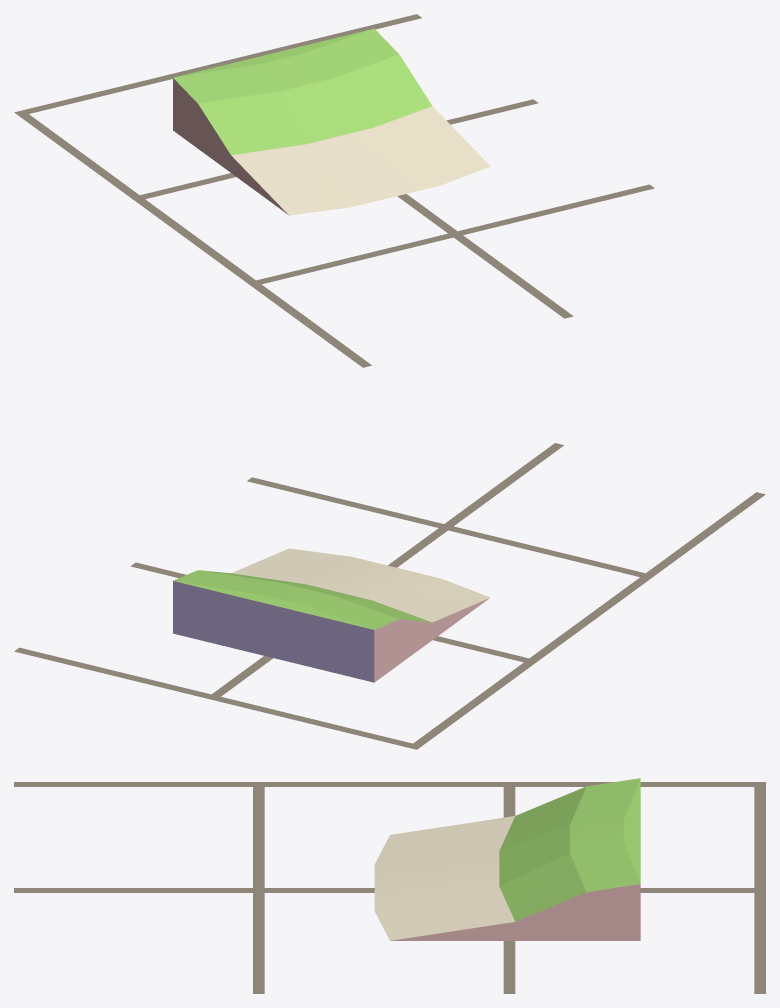
File: Path_Terrain_Deformed_Straight_Convex_1x1.glb
3 views of the same model, one above another, from view 1: azimuth 30°, elevation 25°; view 2: azimuth 150°, elevation 25°; view 3: azimuth 270°, elevation 25° (orthographic). The views are drawn at different scales.
Visible parts, largest first — view 1: Path_Terrain_Deformed_Straight_Convex_1x1, Floor; view 2: Path_Terrain_Deformed_Straight_Convex_1x1, Floor; view 3: Path_Terrain_Deformed_Straight_Convex_1x1, Floor.
Part boxes in pixels (box(x1,y1,x2,y2)): Path_Terrain_Deformed_Straight_Convex_1x1: box(173, 28, 490, 215); Floor: box(14, 14, 654, 367); Path_Terrain_Deformed_Straight_Convex_1x1: box(173, 548, 490, 682); Floor: box(14, 443, 765, 749); Path_Terrain_Deformed_Straight_Convex_1x1: box(374, 778, 640, 940); Floor: box(14, 782, 765, 993).
Bounding box in the file's own units: 200 × 25 × 300.
6 materials, 1 textured.
